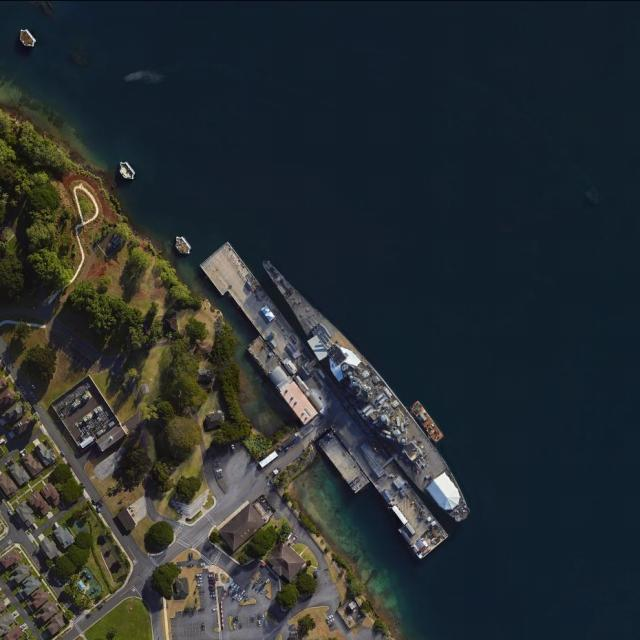Dock: (199, 243, 448, 554)
Other Ship: (407, 401, 446, 443)
Other Warship: (245, 249, 482, 529)
